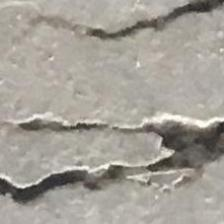Crack: (9, 11, 224, 224)
